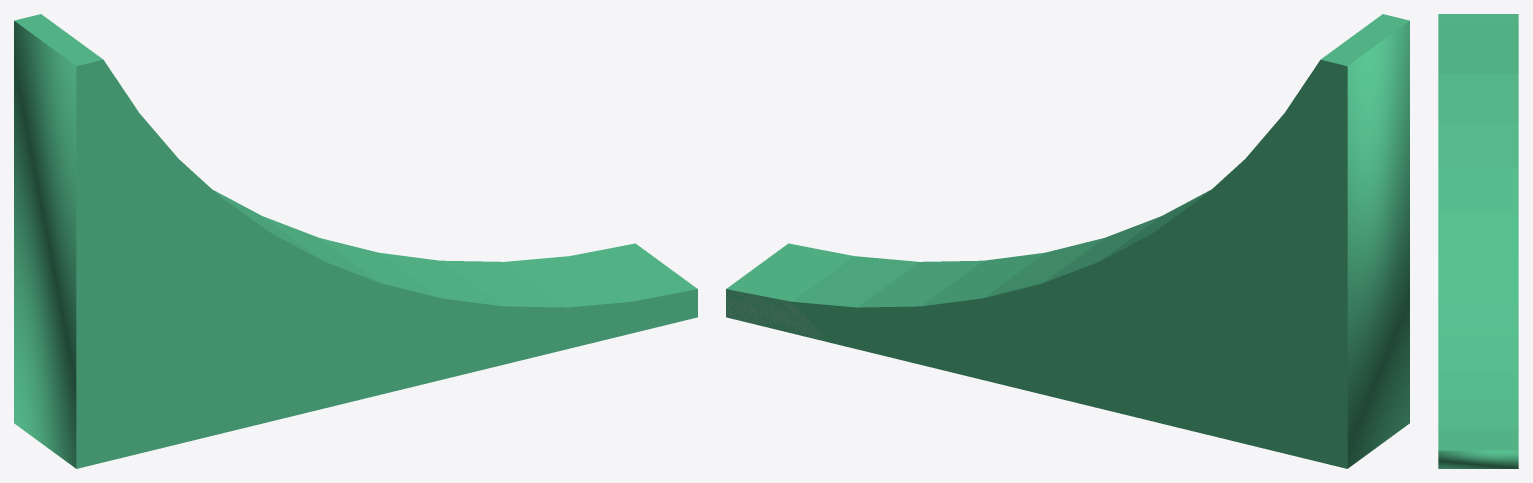
Rendered from gm_ramp_04.dae.
3 views of the same model, side by side, from view 1: azimuth 30°, elevation 25°; view 2: azimuth 150°, elevation 25°; view 3: azimuth 270°, elevation 25° (orthographic). The views are drawn at different scales.
Visible parts, largest first — view 1: Colmesh-1; view 2: Colmesh-1, ind_bld_c10; view 3: Colmesh-1.
Boxes of the visible parts, box(x1,y1,x2,y2) form: Colmesh-1: box(14, 14, 697, 468); Colmesh-1: box(726, 14, 1409, 468); ind_bld_c10: box(726, 290, 822, 340); Colmesh-1: box(1438, 14, 1518, 468).
Size of the model in its own units: 23 by 4 by 14.24.
